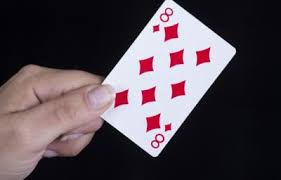eight of diamonds: (96, 1, 238, 158)
